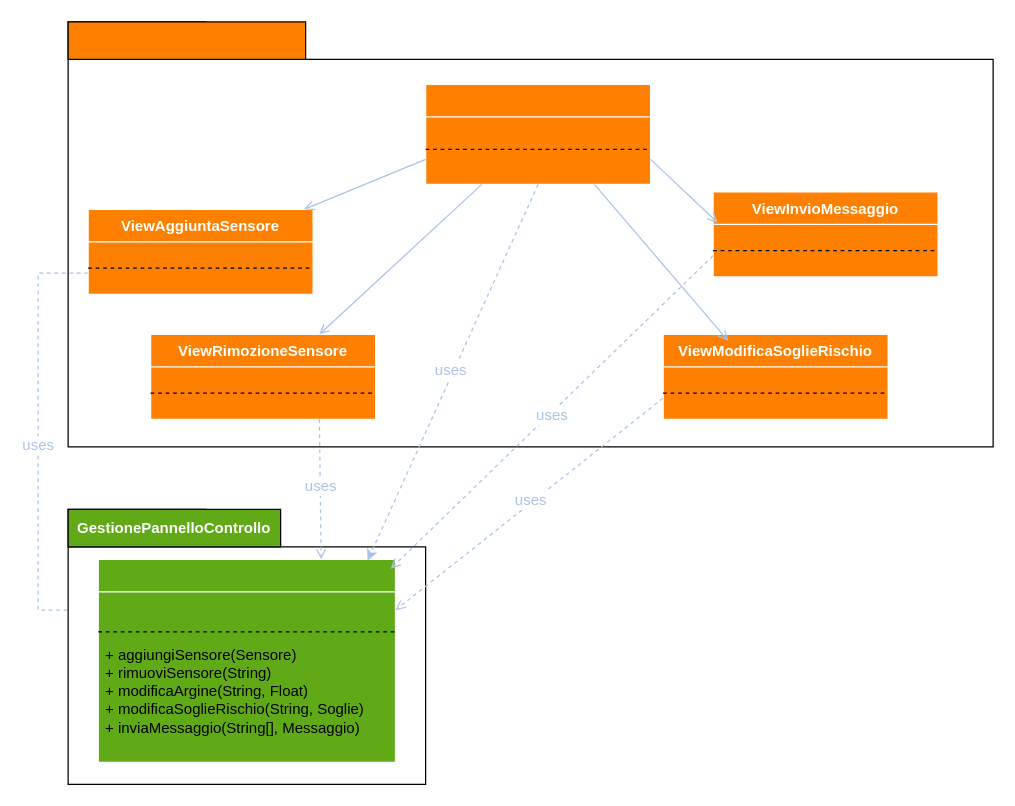
Some shapes in this 1015 by 806 pixel diagram are drawn without their labels. The box of each missing label's shape, as (x1, y1, x2, y2) in pixels:
HomePannelloControllo: (424, 83, 651, 184)
InterfacciaPannelloControllo: (67, 21, 306, 59)
PannelloController: (97, 558, 396, 762)
